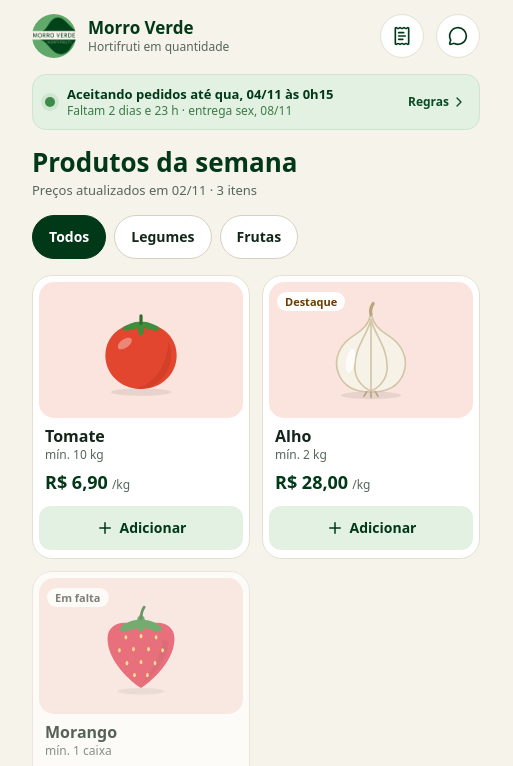
Test: catálogo › aberto: "Adicionar" põe o mínimo e mostra −/+ e a barra do pedido
This screenshot has width=513, height=766.
Expected: the text "Aceitando pedidos até qua, 04/11 às 0h15" is shown, x1=67 y1=85 x2=334 y2=103
Click the button with aria-label "Adicionar 10 kg de Tomate": click(141, 528) x1=39 y1=506 x2=243 y2=550
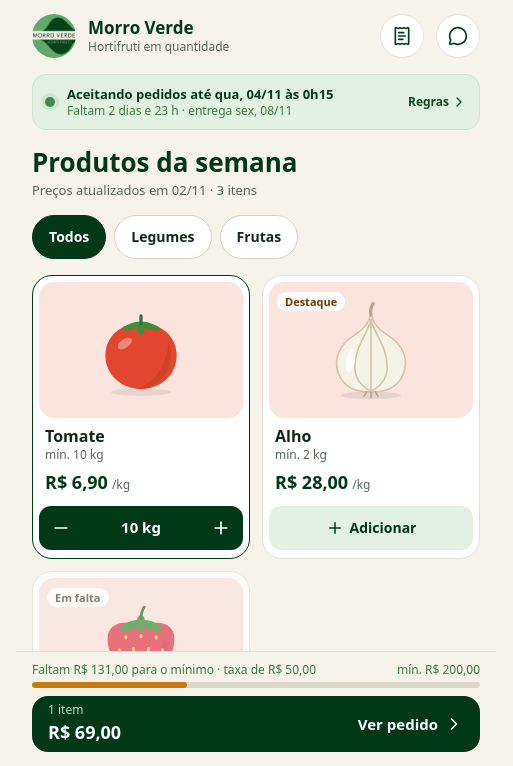
Now the button named "Aumentar Tomate" is shown, box x1=199 y1=506 x2=243 y2=550
Now the text "R$ 69,00" is shown, box x1=48 y1=718 x2=121 y2=746
Now the text "Faltam R$ 131,00 para o mínimo · taxa de R$ 50,00" is shown, box x1=32 y1=662 x2=316 y2=678
